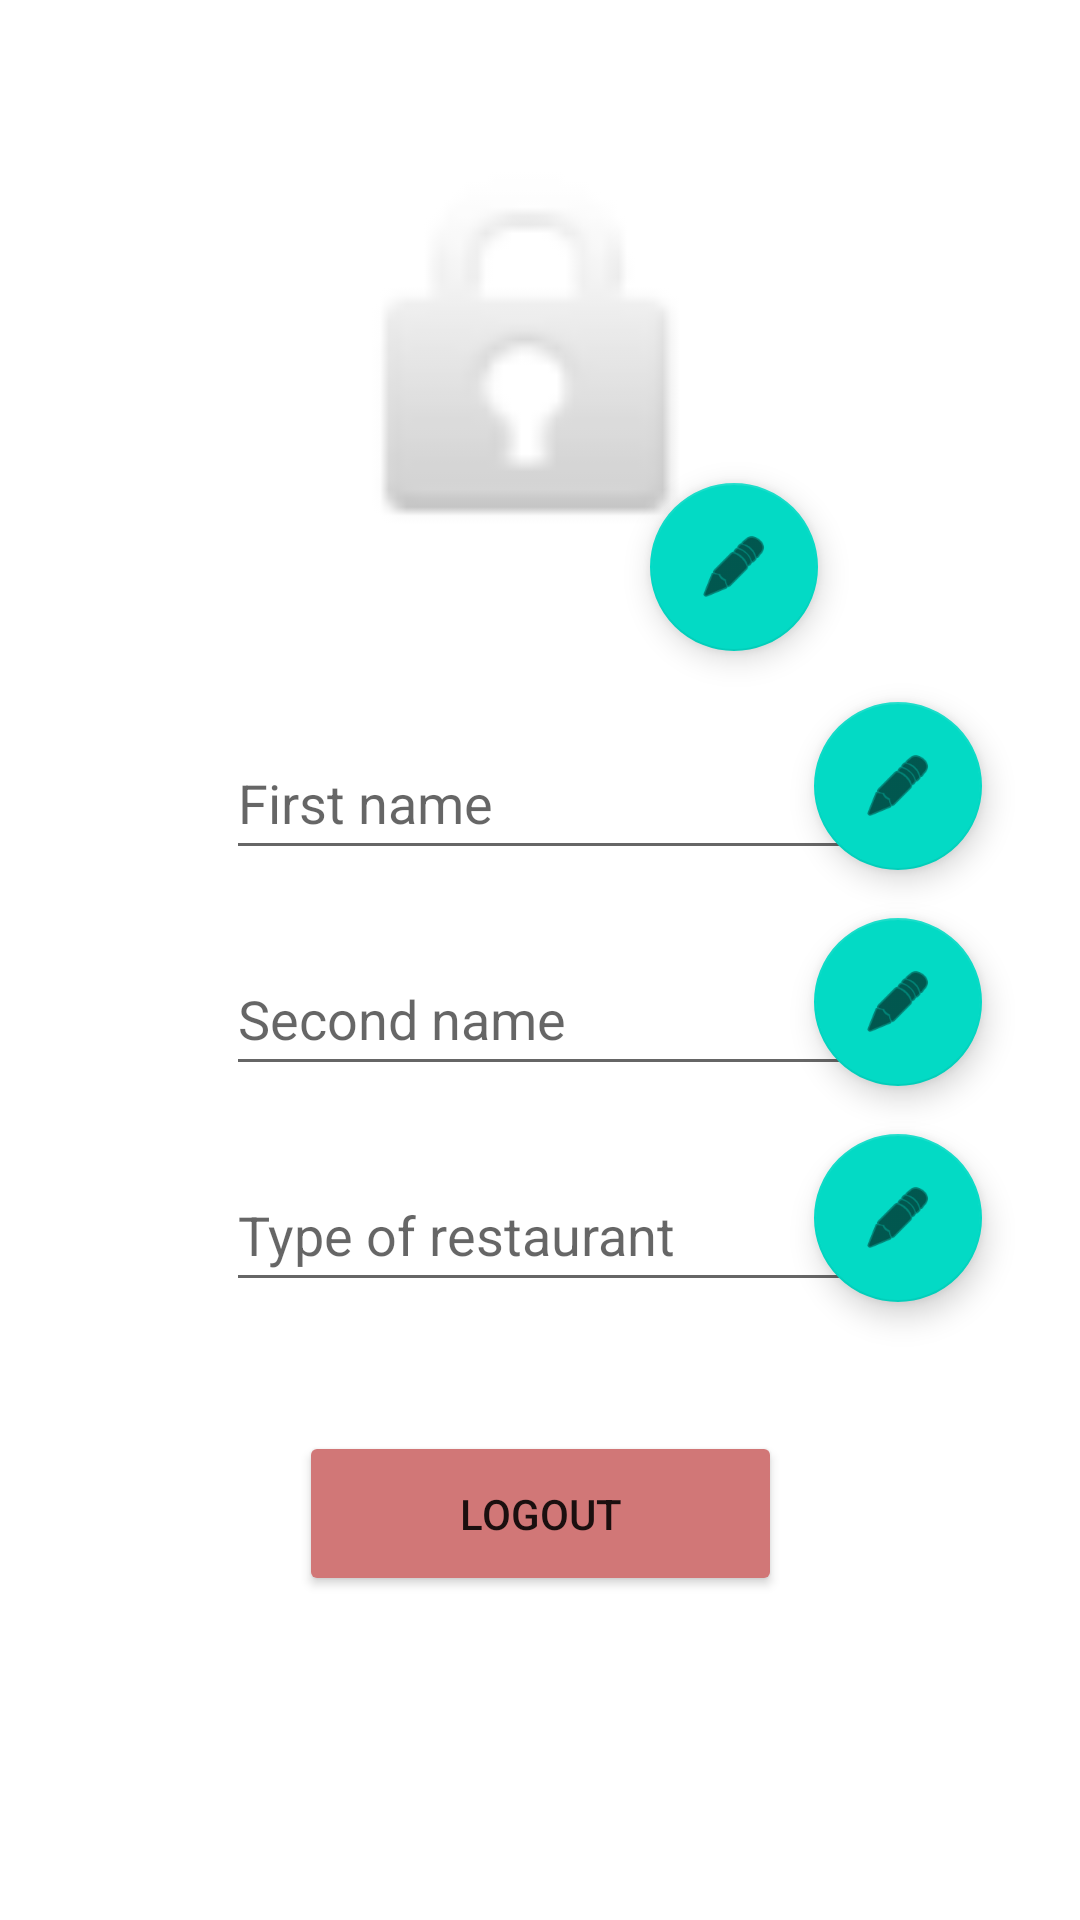

Icons on this 1080x1920 Android screen, each with the point to tap as point (x, y):
edit: point (734, 567), point (898, 786), point (898, 1002), point (898, 1218)
lock idle: point (527, 416)
